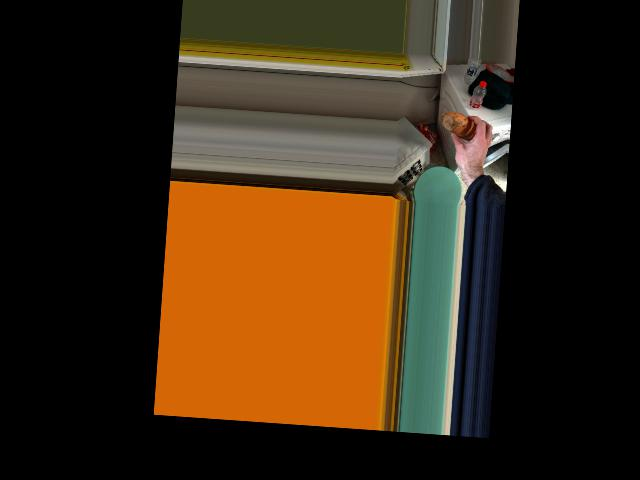sweet_potato: (447, 111, 476, 141)
